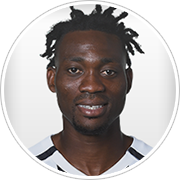face: (44, 47, 135, 125)
